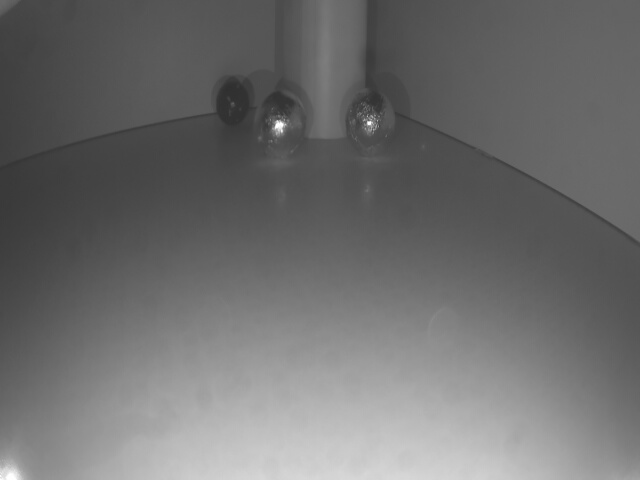Dead: (214, 77, 250, 124)
Live: (251, 90, 306, 159), (346, 89, 398, 157)
